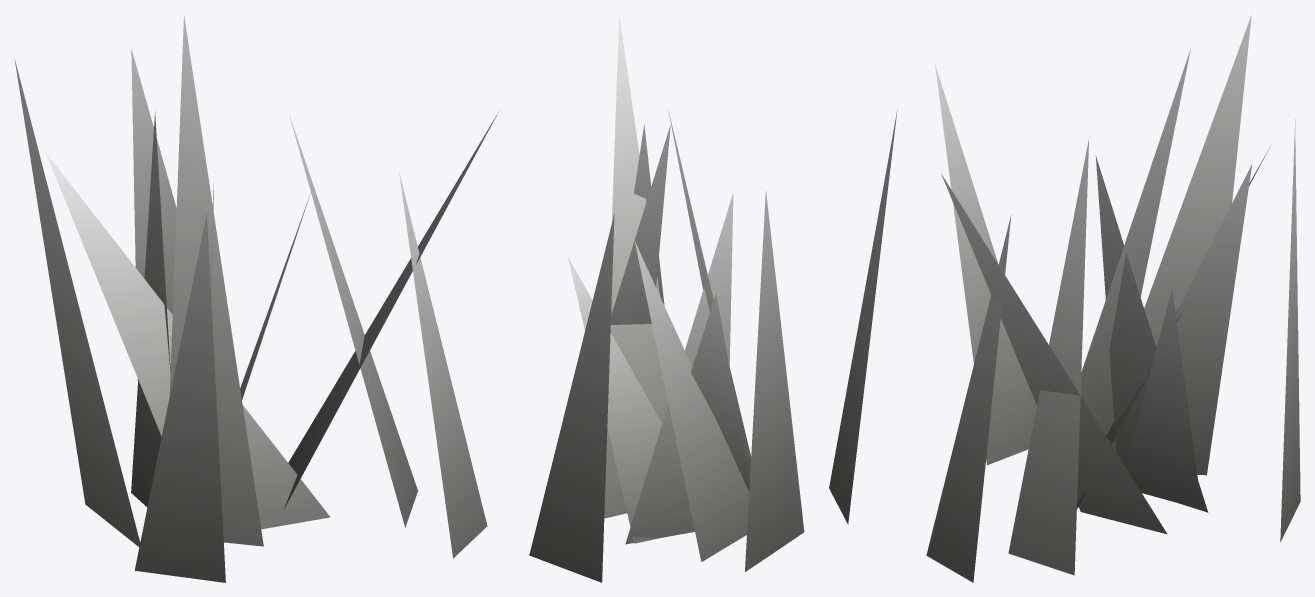
The model's file is grass_a.glb.
3 views of the same model, side by side, from view 1: azimuth 30°, elevation 25°; view 2: azimuth 150°, elevation 25°; view 3: azimuth 270°, elevation 25° (orthographic). The views are drawn at different scales.
Visible parts, largest first — view 1: grass_a; view 2: grass_a; view 3: grass_a.
Part boxes in pixels (bbox=[...]): grass_a: bbox=[14, 15, 498, 582]; grass_a: bbox=[529, 15, 897, 582]; grass_a: bbox=[926, 15, 1300, 582].
Bounding box in the file's own units: 0.3263 × 0.4529 × 0.3422.
Materials: 1 (1 with a texture image).
